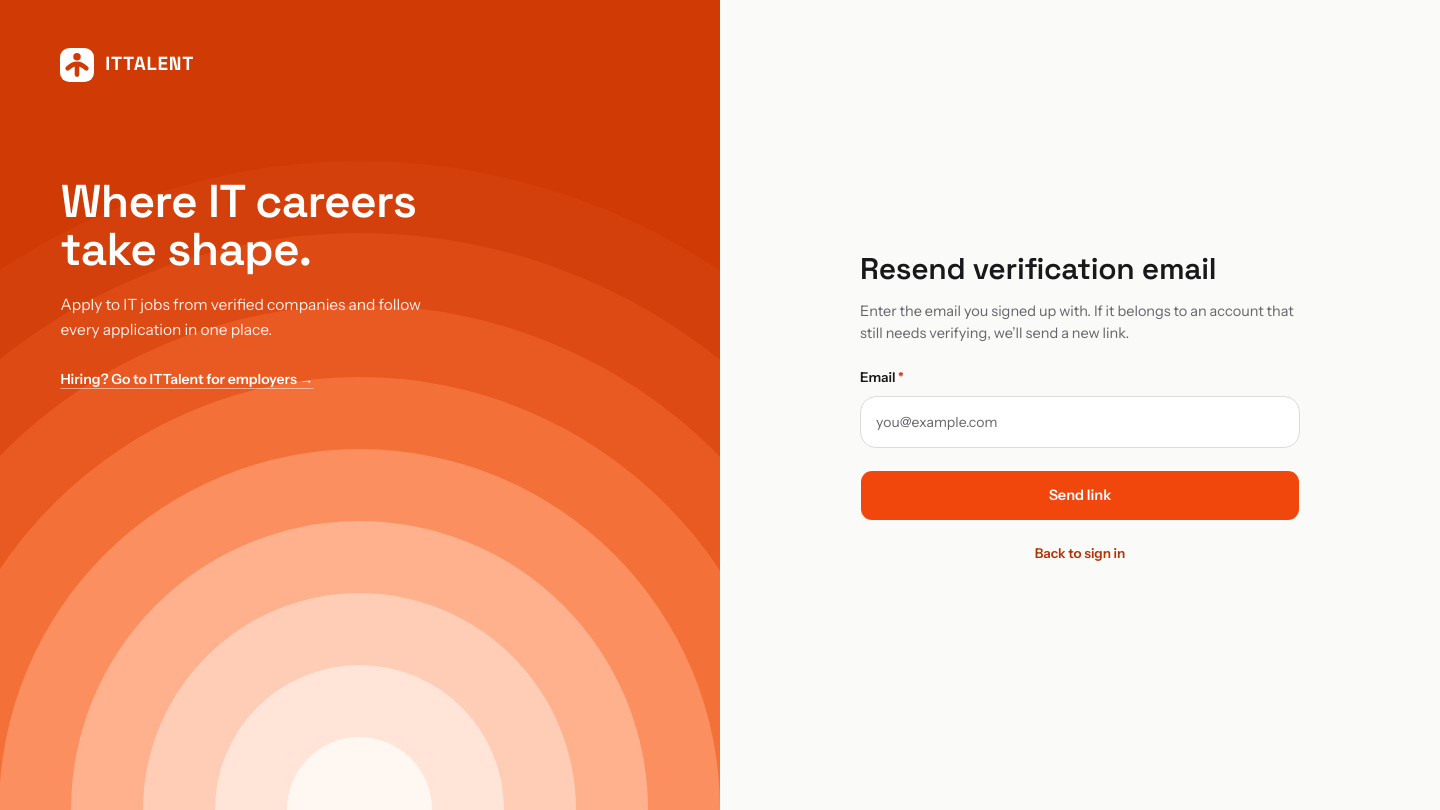
Test: EmailVerificationPage › handles resend verification email with input field on expired stage
Type "expired-user@example.com" into the field labelled "Email *" at (1080, 422), box [860,396,1300,448]
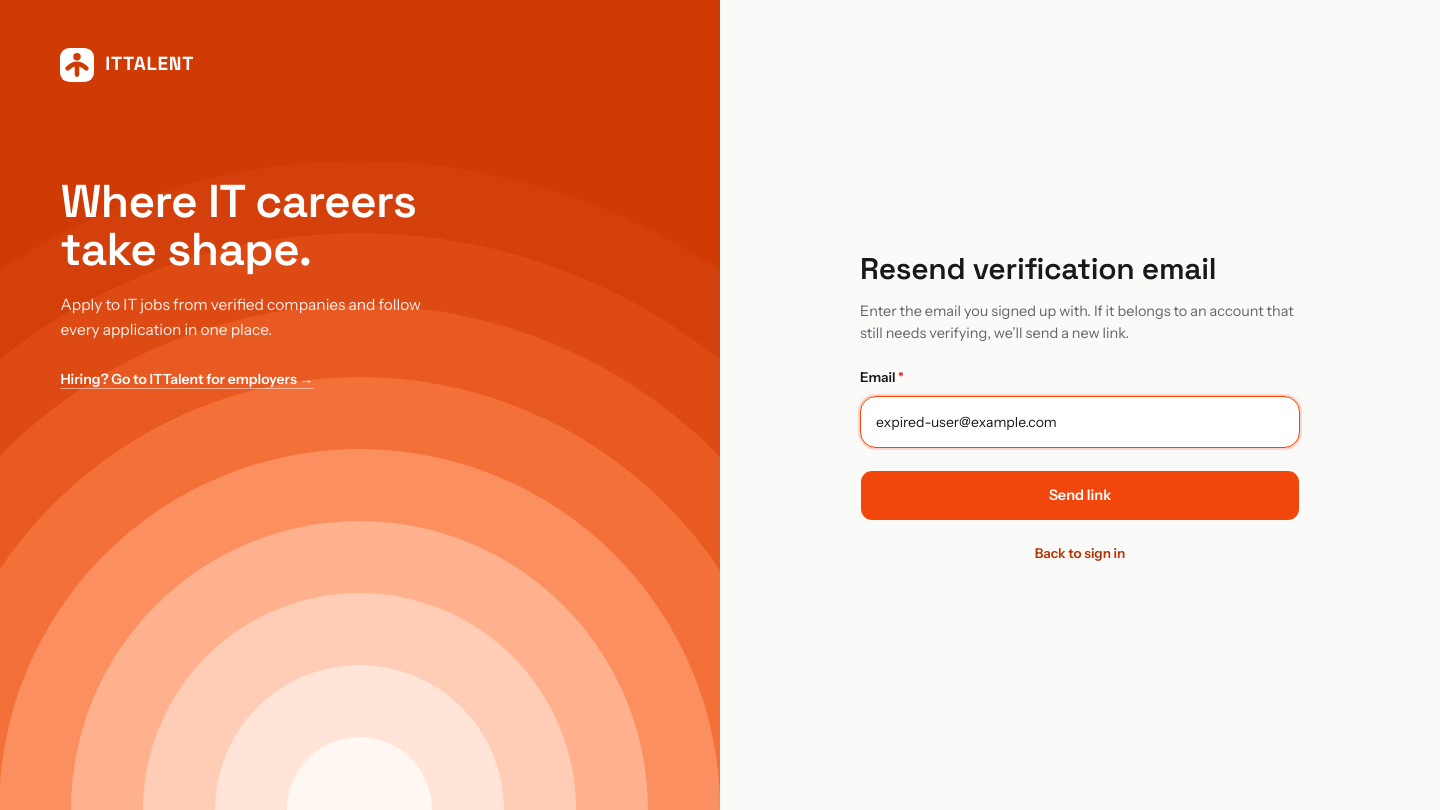
Click the button "Send link" at (1080, 496), box [860,470,1300,521]
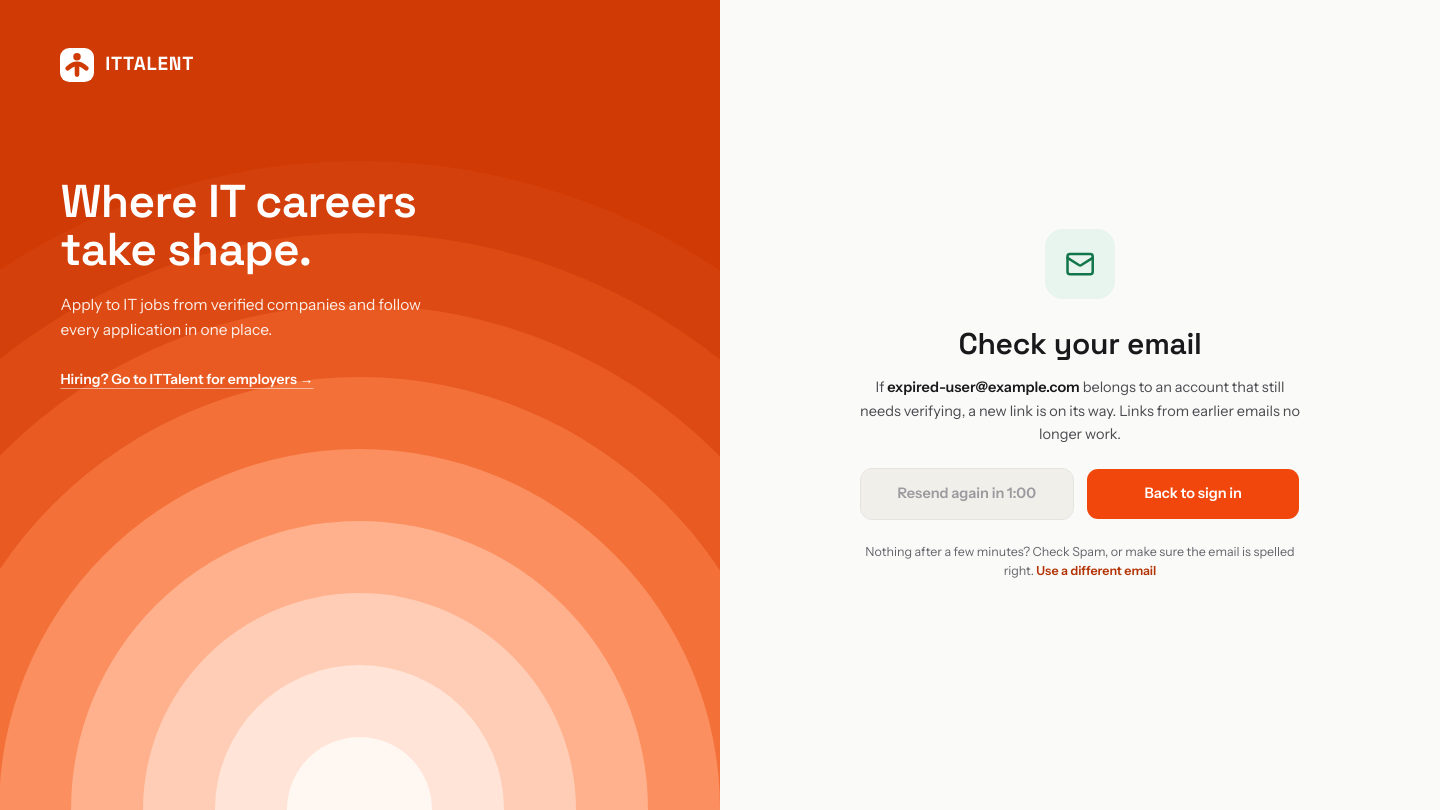
Check: the heading "Check your email" is shown, box [958,324,1202,363]
Check: the text "expired-user@example.com" is shown, box [887,378,1080,396]
